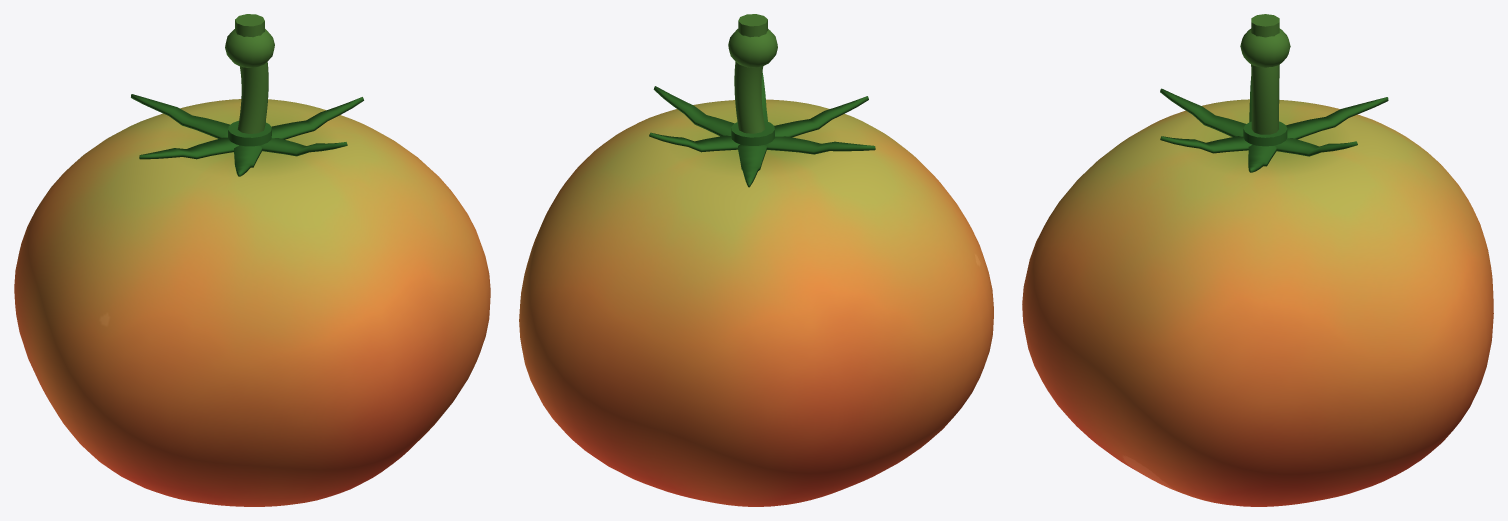
Rendered from tomato_half.glb.
3 views of the same model, side by side, from view 1: azimuth 30°, elevation 25°; view 2: azimuth 150°, elevation 25°; view 3: azimuth 270°, elevation 25° (orthographic).
Parts seen in each view (by area): view 1: tomato_half, calyx, pedicel, knuckle, calyx_hub, proximal_stub; view 2: tomato_half, calyx, pedicel, knuckle, calyx_hub, proximal_stub; view 3: tomato_half, calyx, pedicel, knuckle, calyx_hub, proximal_stub.
Part boxes in pixels (x1,y1,x2,y2): tomato_half: [14, 99, 490, 506]; calyx: [131, 94, 363, 176]; pedicel: [237, 62, 268, 133]; knuckle: [225, 29, 274, 67]; calyx_hub: [228, 120, 271, 146]; proximal_stub: [235, 14, 264, 37]; tomato_half: [519, 99, 993, 506]; calyx: [649, 72, 875, 187]; pedicel: [734, 61, 765, 133]; knuckle: [728, 29, 777, 67]; calyx_hub: [731, 120, 774, 145]; proximal_stub: [738, 14, 767, 37]; tomato_half: [1022, 99, 1493, 506]; calyx: [1160, 76, 1388, 172]; pedicel: [1251, 64, 1279, 134]; knuckle: [1240, 28, 1290, 67]; calyx_hub: [1243, 121, 1287, 146]; proximal_stub: [1251, 14, 1279, 37].
Bounding box in the file's own units: 0.0606 × 0.0646 × 0.06.
Materials: 3 (1 with a texture image).
